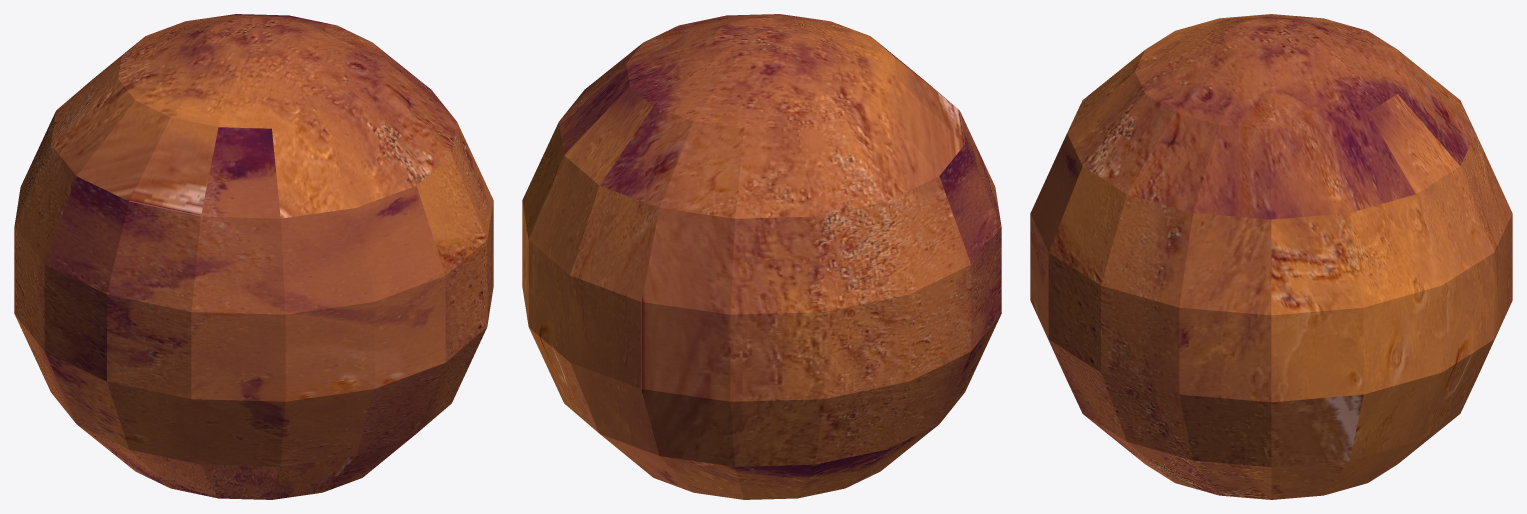
Rendered from Mars.glb.
3 renders of one model, left to right at view 1: azimuth 30°, elevation 25°; view 2: azimuth 150°, elevation 25°; view 3: azimuth 270°, elevation 25°, orthographic.
Parts seen in each view (by area): view 1: Sphere; view 2: Sphere; view 3: Sphere.
Boxes of the visible parts, left/top/right/bottom form: Sphere: left=14, top=14, right=493, bottom=499; Sphere: left=522, top=14, right=1001, bottom=499; Sphere: left=1030, top=14, right=1512, bottom=499.
Bounding box in the file's own units: 1.96 × 2 × 1.96.
1 material, 1 textured.
